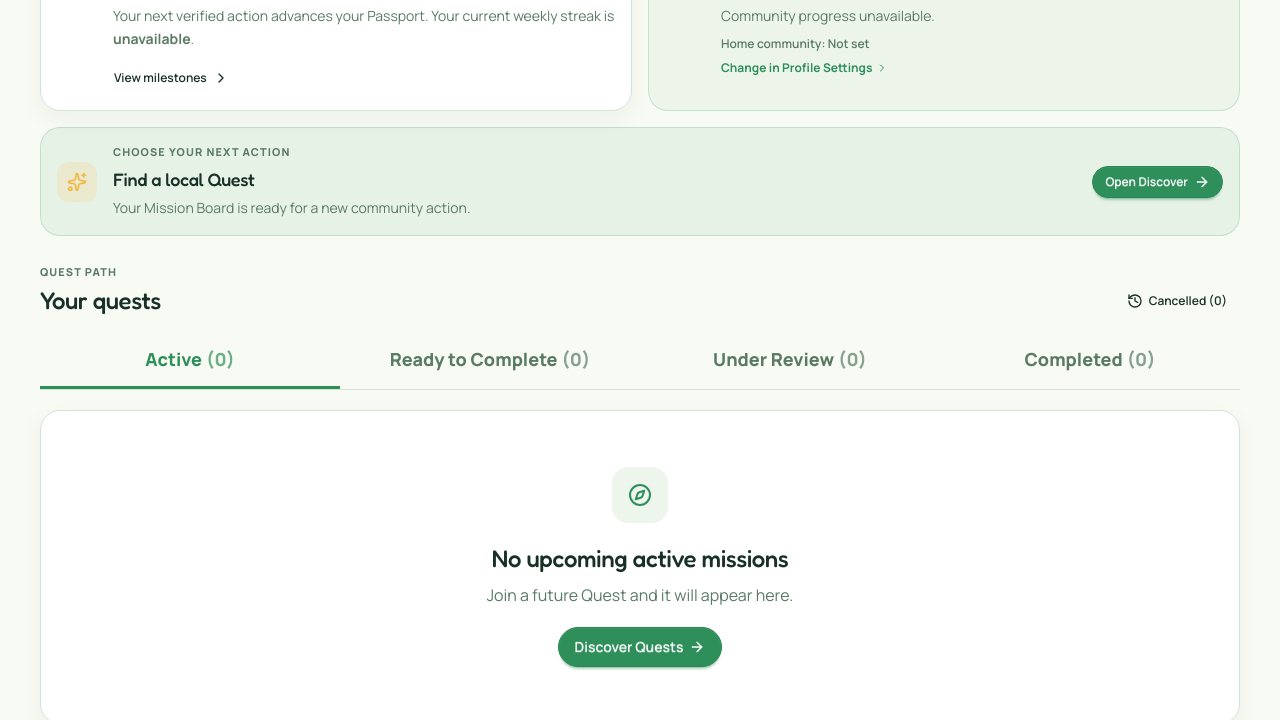
MyQuestsPage › keeps the completed view in the URL without resetting scroll or refetching
The width and height of the screenshot is (1280, 720).
(page scrolled)
Step 1. Click the button "Completed(0)" → (1090, 361), box [940,333,1240,389]
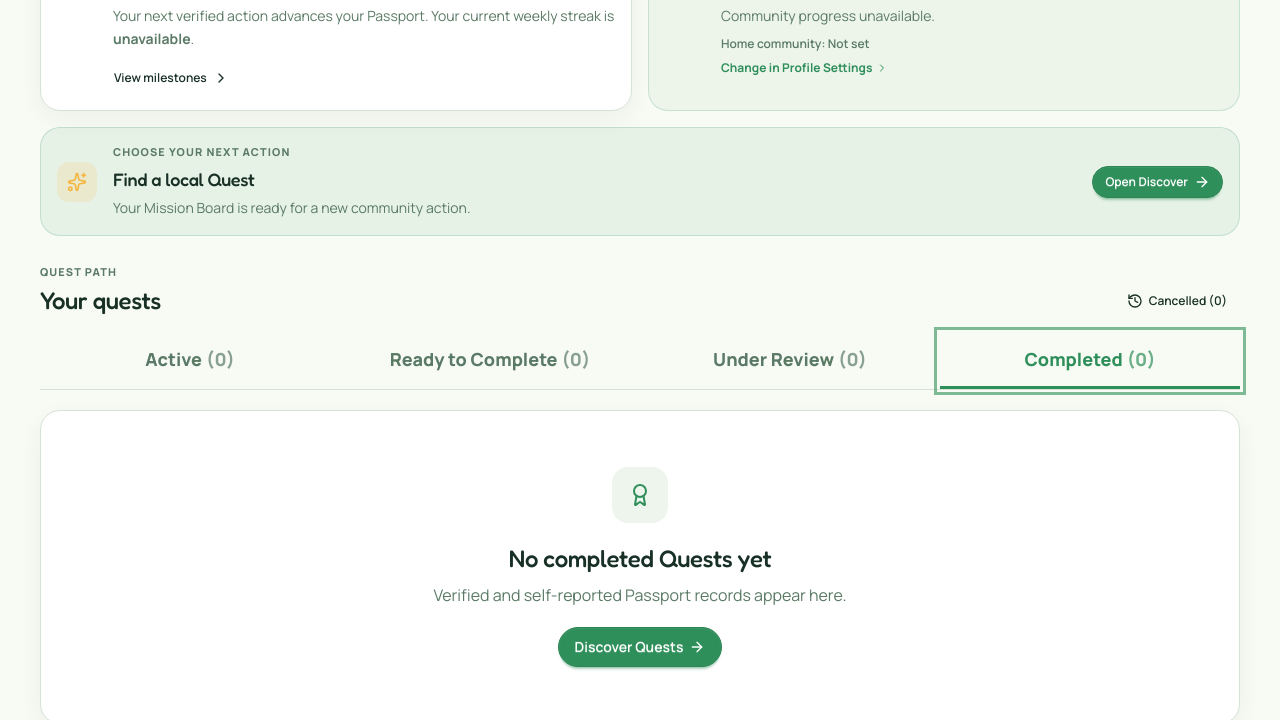
Now the heading "No completed Quests yet" is shown, box [509,544,771,573]
